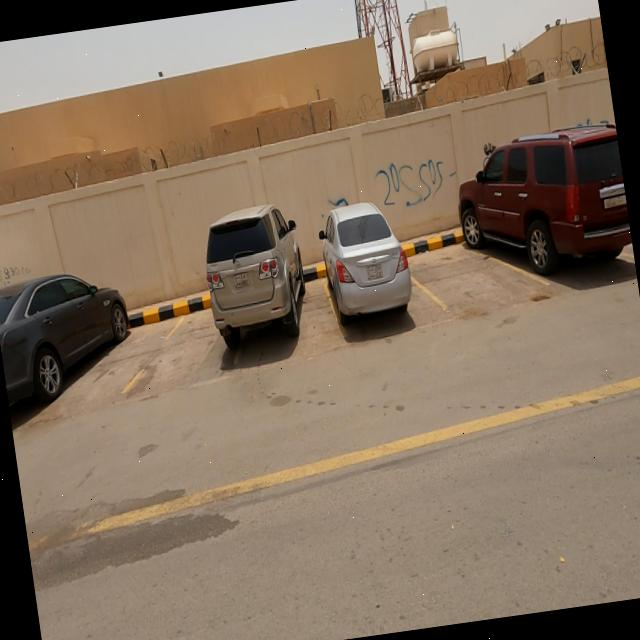Graffiti: (374, 156, 463, 212), (1, 264, 34, 285), (572, 117, 612, 131), (479, 144, 500, 169), (328, 196, 351, 210)
